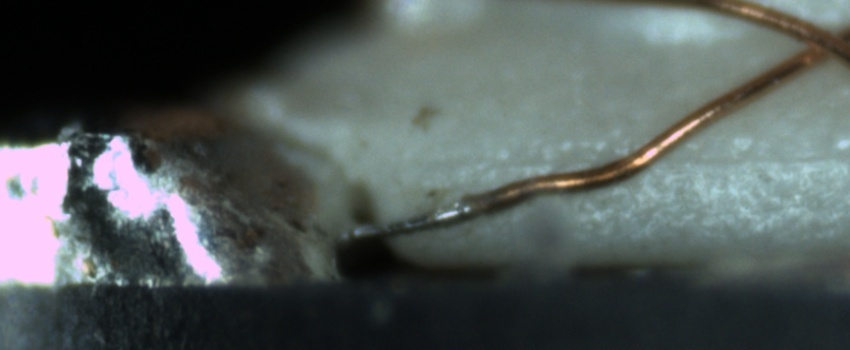CL: (781, 13, 845, 73)
DL: (508, 128, 850, 192)
TS: (332, 198, 474, 244)
TTCW: (337, 173, 527, 245)
